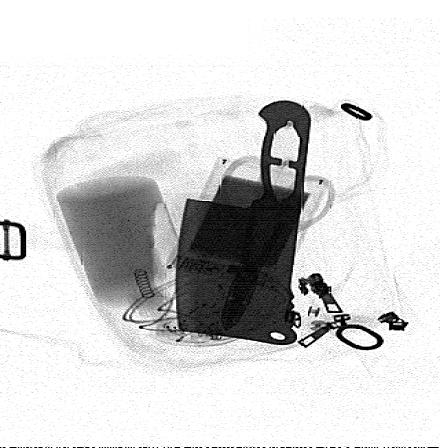Knife: (173, 102, 312, 346)
Powerbank: (167, 157, 328, 287)
Scissors: (216, 158, 337, 335)
